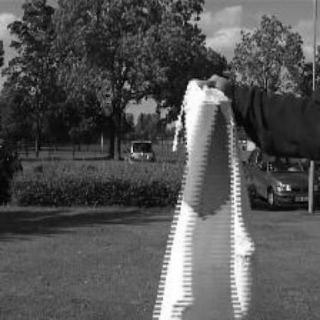other: (180, 80, 246, 228)
